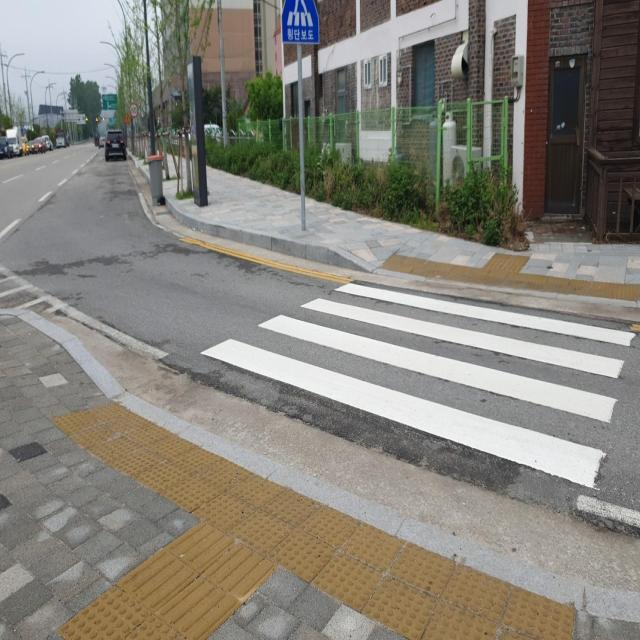횡단보도: (200, 281, 640, 488)
